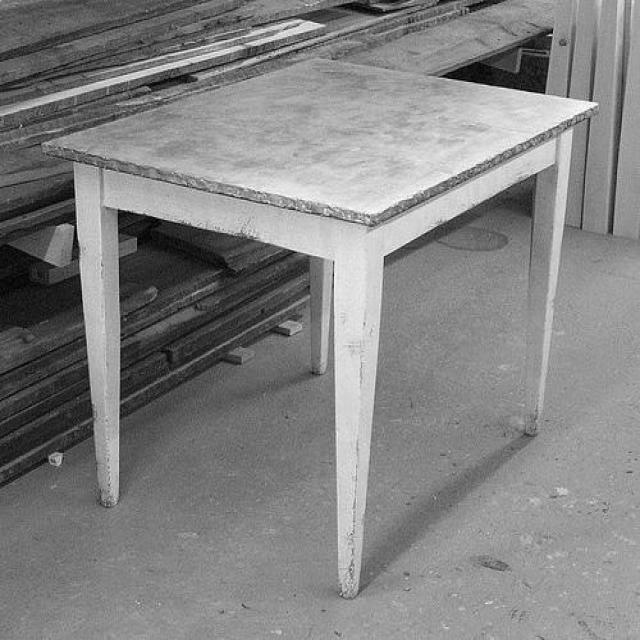table: (43, 59, 604, 595)
